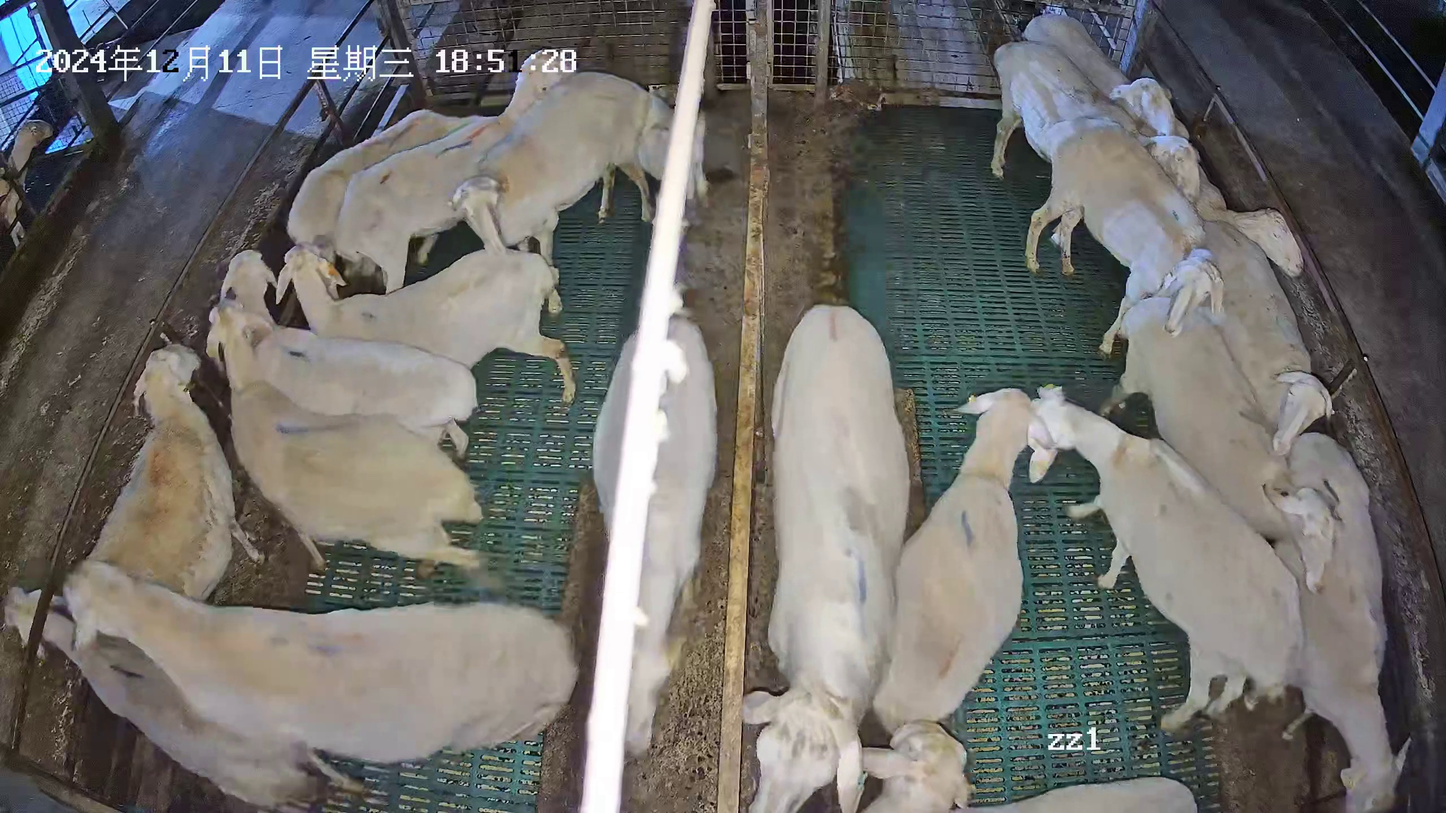Smounting: (1, 557, 581, 811)
mounted: (2, 579, 369, 808)
